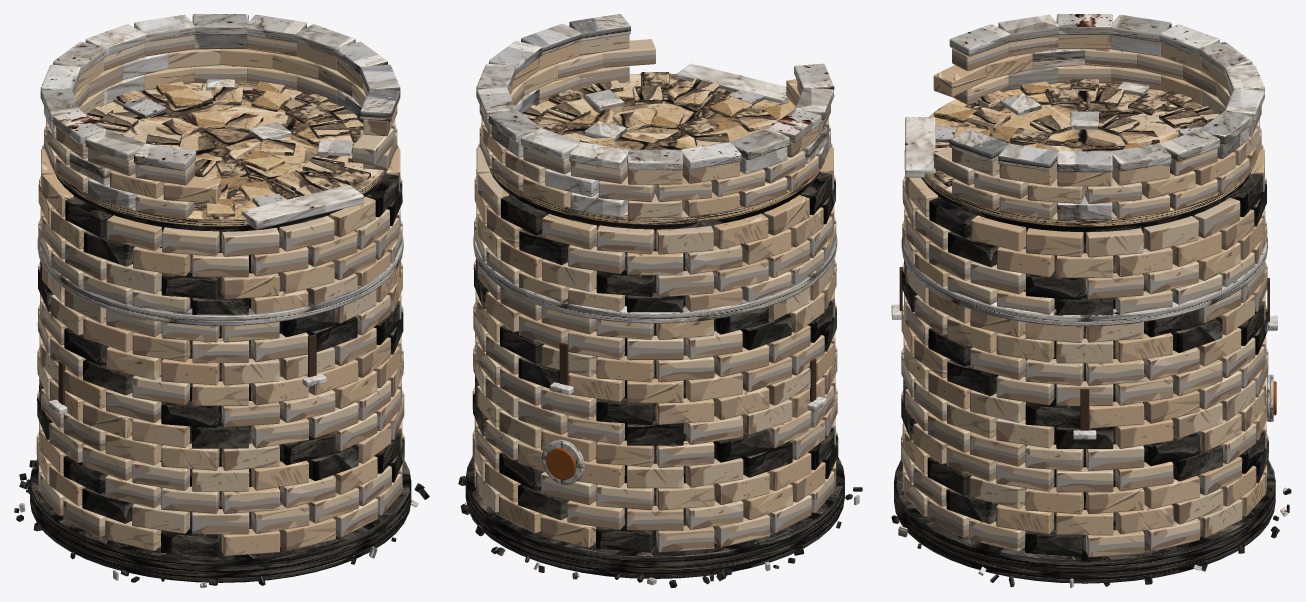
The model's file is fortress_round_tower_walkable_LOD0.glb.
3 views of the same model, side by side, from view 1: azimuth 30°, elevation 25°; view 2: azimuth 150°, elevation 25°; view 3: azimuth 270°, elevation 25° (orthographic).
Parts seen in each view (by area): view 1: RoundTowerDeck, RoundTowerBatteredBase, RoundTowerMarbleBelt, TowerAccessThreshold, RoundTowerRubbleHeart, RoundTowerAshlar.282, RoundTowerAshlar.281, RoundTowerAshlar.283, RoundTowerAshlar.280, RoundTowerAshlar.066, RoundTowerAshlar.173, RoundTowerAshlar.246 (+148 smaller); view 2: RoundTowerBatteredBase, RoundTowerDeck, RoundTowerMarbleBelt, RoundTowerRubbleHeart, TowerAccessThreshold, RoundTowerAshlar.275, RoundTowerAshlar.276, RoundTowerAshlar.277, RoundTowerAshlar.274, RoundTowerAshlar.096, RoundTowerAshlar.024, RoundTowerAshlar.078 (+148 smaller); view 3: RoundTowerBatteredBase, RoundTowerDeck, RoundTowerMarbleBelt, RoundTowerRubbleHeart, TowerAccessThreshold, RoundTowerAshlar.270, RoundTowerAshlar.287, RoundTowerAshlar.271, RoundTowerAshlar.286, RoundTowerAshlar.072, RoundTowerAshlar.179, RoundTowerAshlar.107 (+161 smaller).
Boxes of the visible parts, x1,y1,x2,y2 form: RoundTowerDeck: [50, 82, 391, 226]; RoundTowerBatteredBase: [30, 459, 411, 582]; RoundTowerMarbleBelt: [37, 235, 403, 325]; TowerAccessThreshold: [241, 185, 363, 229]; RoundTowerRubbleHeart: [55, 173, 386, 550]; RoundTowerAshlar.282: [221, 228, 279, 256]; RoundTowerAshlar.281: [162, 227, 219, 256]; RoundTowerAshlar.283: [279, 216, 334, 251]; RoundTowerAshlar.280: [106, 215, 161, 250]; RoundTowerAshlar.066: [221, 486, 279, 513]; RoundTowerAshlar.173: [161, 358, 219, 385]; RoundTowerAshlar.246: [221, 273, 279, 299]; RoundTowerBatteredBase: [465, 456, 844, 578]; RoundTowerDeck: [485, 73, 824, 224]; RoundTowerMarbleBelt: [473, 233, 837, 323]; RoundTowerRubbleHeart: [490, 171, 820, 546]; TowerAccessThreshold: [676, 63, 790, 103]; RoundTowerAshlar.275: [597, 225, 654, 254]; RoundTowerAshlar.276: [656, 225, 713, 254]; RoundTowerAshlar.277: [713, 213, 768, 249]; RoundTowerAshlar.274: [542, 213, 596, 249]; RoundTowerAshlar.096: [656, 441, 714, 467]; RoundTowerAshlar.024: [656, 525, 714, 552]; RoundTowerAshlar.078: [626, 463, 683, 488]; RoundTowerBatteredBase: [894, 460, 1275, 583]; RoundTowerDeck: [923, 82, 1255, 226]; RoundTowerMarbleBelt: [901, 237, 1267, 326]; RoundTowerRubbleHeart: [921, 175, 1249, 551]; TowerAccessThreshold: [905, 117, 935, 177]; RoundTowerAshlar.270: [1086, 228, 1143, 257]; RoundTowerAshlar.287: [1026, 228, 1083, 257]; RoundTowerAshlar.271: [1143, 216, 1198, 251]; RoundTowerAshlar.286: [971, 215, 1026, 251]; RoundTowerAshlar.072: [1056, 467, 1113, 492]; RoundTowerAshlar.179: [1025, 359, 1083, 385]; RoundTowerAshlar.107: [1025, 444, 1083, 471].
Size of the model in its own units: 7.2 by 8.43 by 7.29.
Materials: 6 (4 with a texture image).
